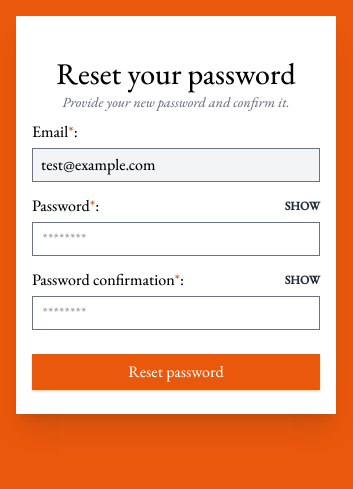
Test: ResetPassword › should display validation errors for empty password fields
The image size is (353, 489).
Click the button "Reset password". click: (176,372)
box: x1=32 y1=354 x2=320 y2=390
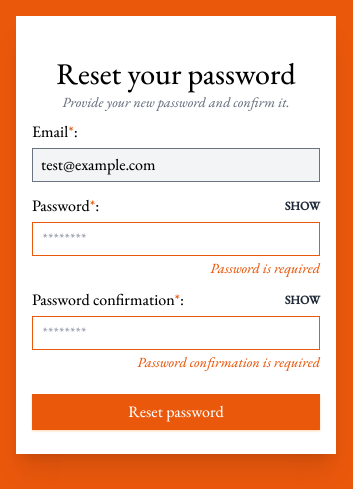
Now the text "Password is required" is shown, box x1=210 y1=259 x2=320 y2=277
Now the text "Password confirmation is required" is shown, box x1=137 y1=353 x2=320 y2=371
